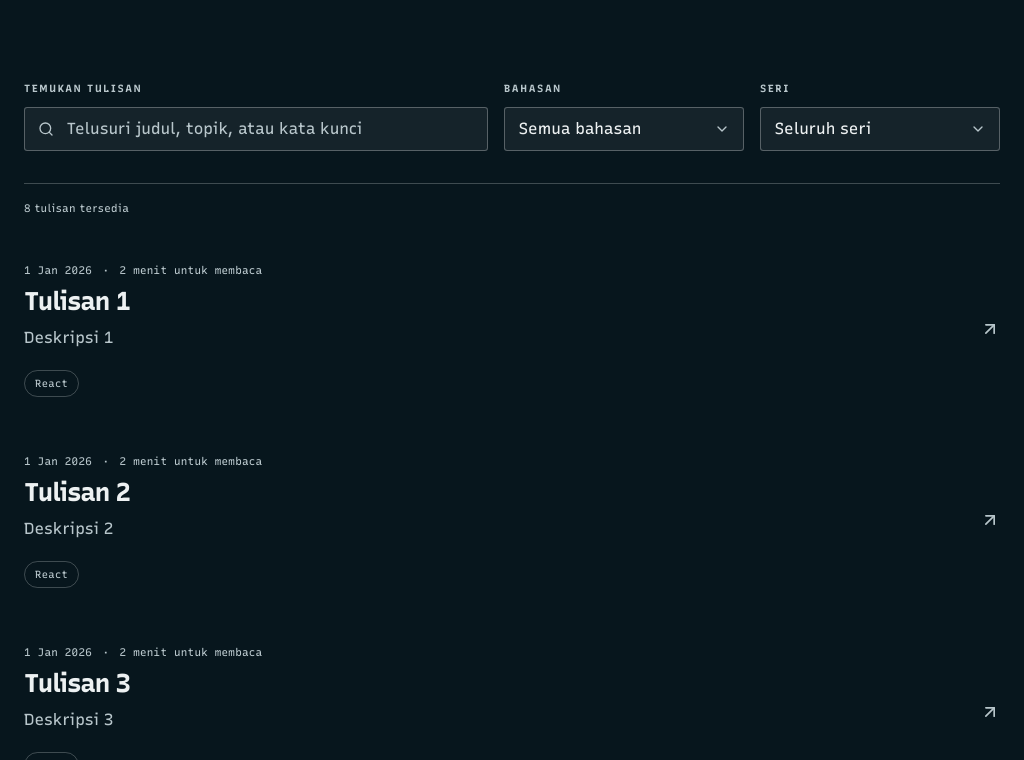
PostBrowser › resets filters from the empty state and restores the list
The width and height of the screenshot is (1024, 760).
Type "nothing-matches" into the field labelled "Temukan tulisan". click: [256, 129]
box: x1=24 y1=107 x2=488 y2=151
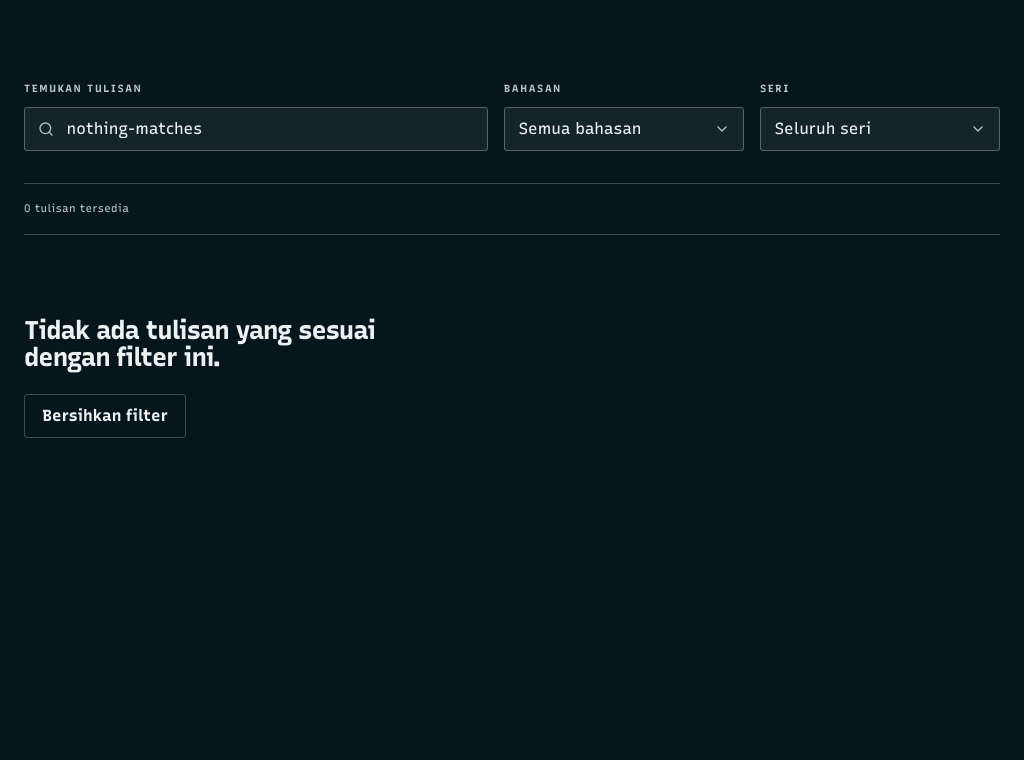
Check: the text "0 tulisan tersedia" is shown, box x1=24 y1=202 x2=129 y2=215
Click the button "Bersihkan filter". click: [105, 416]
box: x1=24 y1=394 x2=186 y2=438
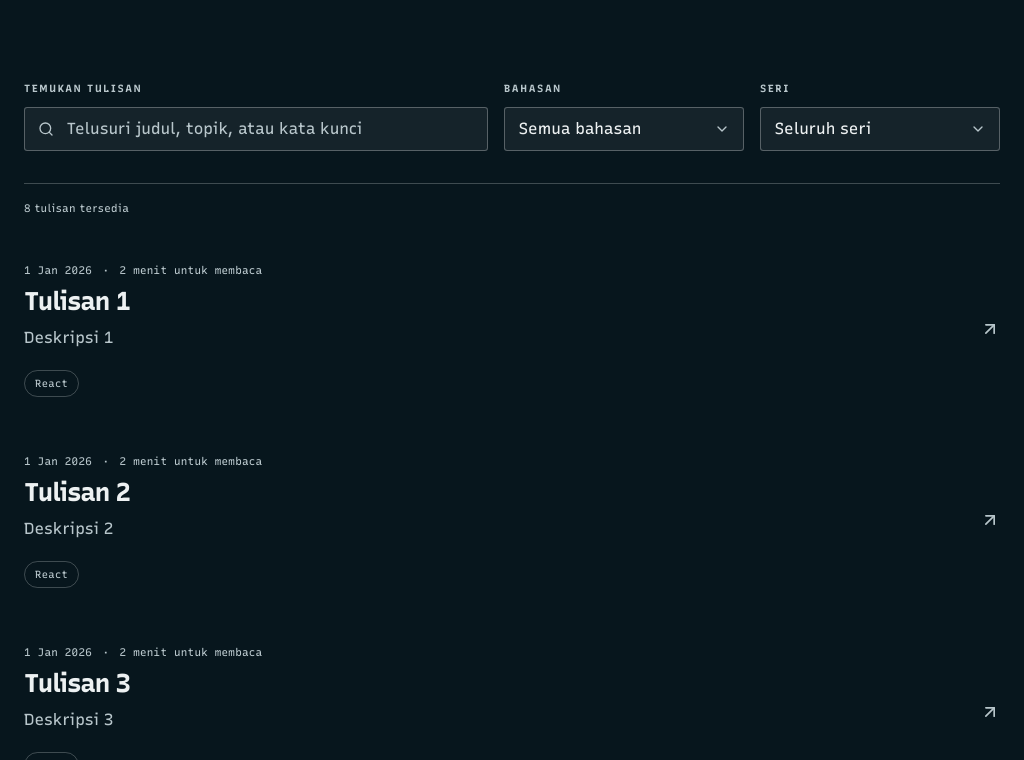
Check: the field labelled "Temukan tulisan" is empty, box x1=24 y1=107 x2=488 y2=151
Check: the text "8 tulisan tersedia" is shown, box x1=24 y1=202 x2=129 y2=215
Check: the link "Tulisan 1" is shown, box x1=24 y1=286 x2=130 y2=316
